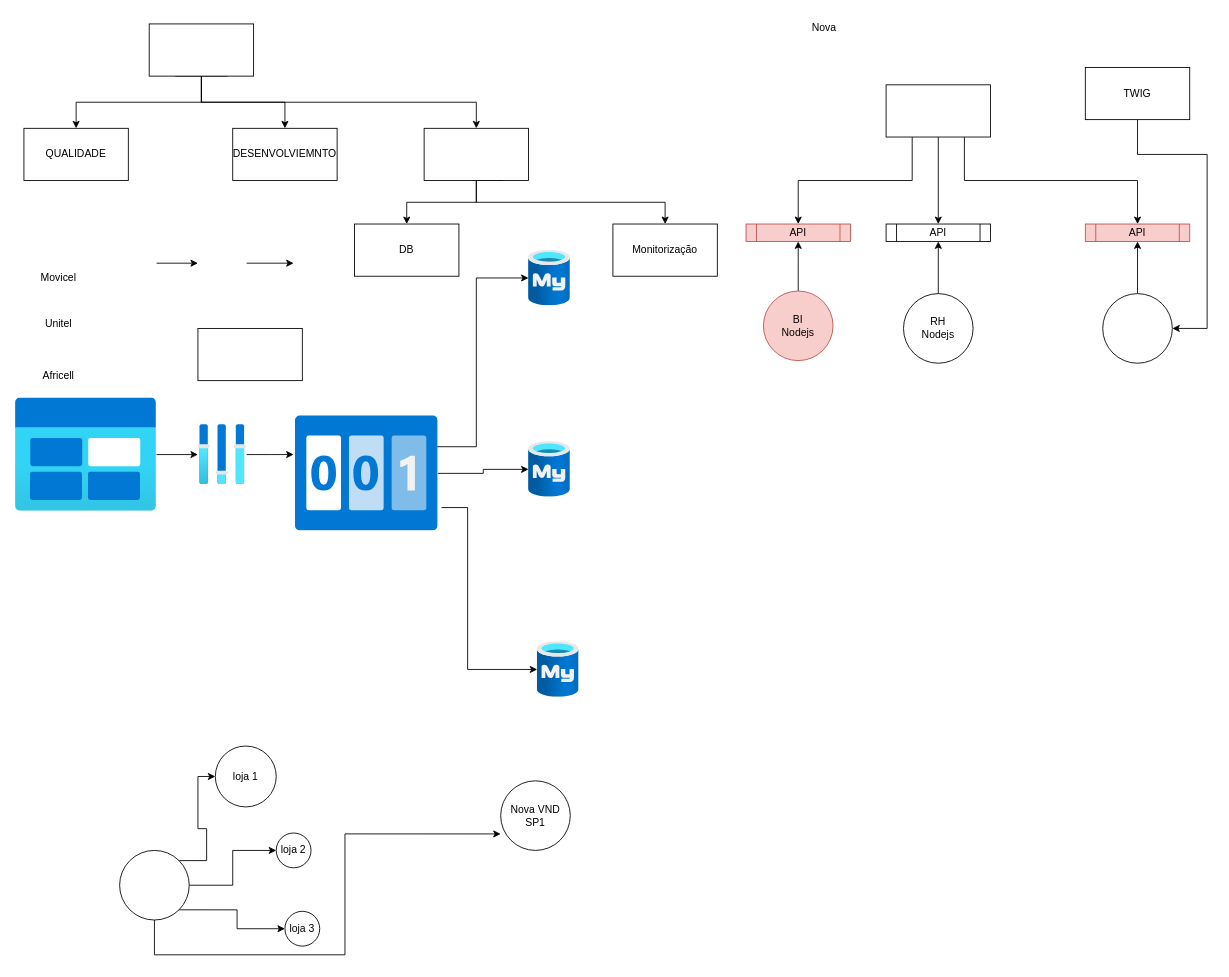
This 1229x977 diagram has some shape labels left out. The shapes that lost their labels are listed below. From the top down, each one's box as (x1, y1, x2, y2) in pixels, then its label:
(148, 23, 254, 76): DTI
(885, 84, 990, 137): React
(423, 127, 529, 181): SISTEMAS
(1102, 293, 1172, 363): VND PHP
(119, 850, 189, 920): Nova AC
